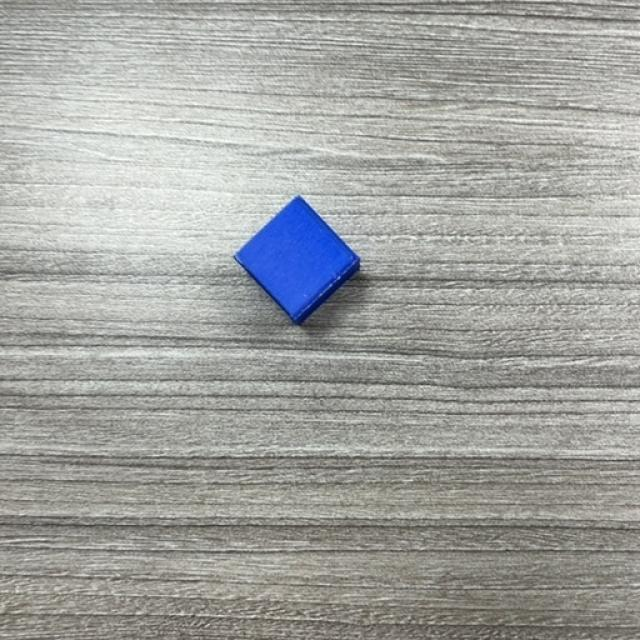Azul: (232, 196, 362, 325)
